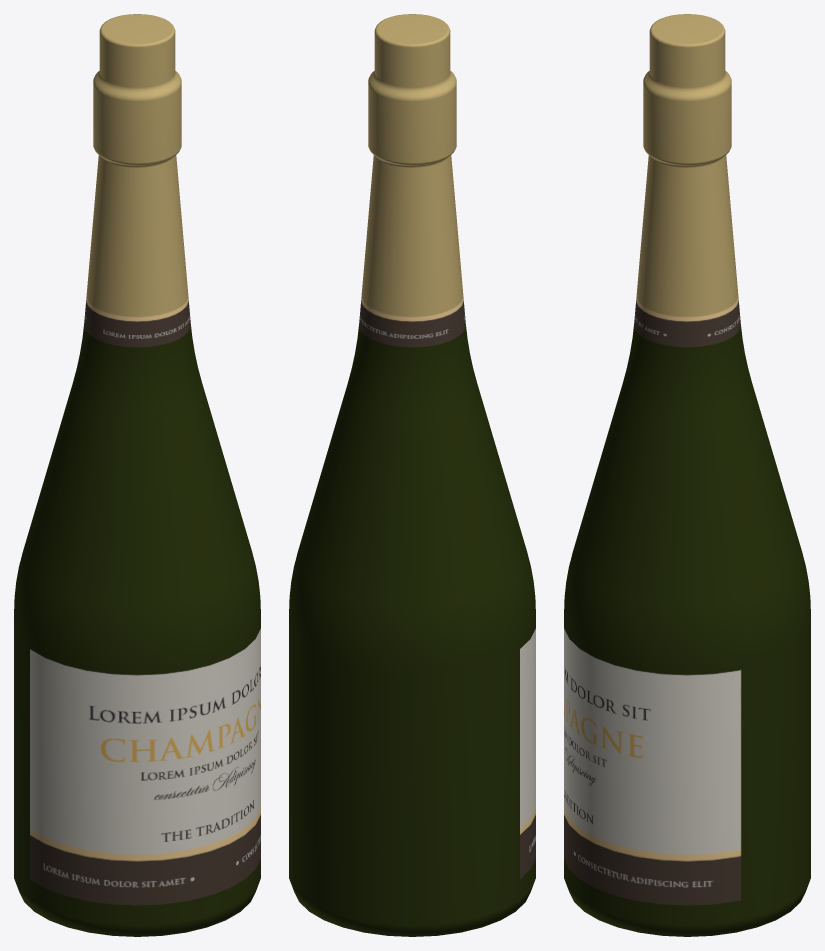
File: champagne_Lorem.glb
The picture shows the model from 3 angles, left to right: view 1: azimuth 30°, elevation 25°; view 2: azimuth 150°, elevation 25°; view 3: azimuth 270°, elevation 25°; orthographic projection.
Parts seen in each view (by area): view 1: FG Champagne.Shape; view 2: FG Champagne.Shape; view 3: FG Champagne.Shape.
Part boxes in pixels (left/top/right/bottom): FG Champagne.Shape: left=14, top=14, right=260, bottom=936; FG Champagne.Shape: left=289, top=14, right=535, bottom=936; FG Champagne.Shape: left=564, top=14, right=810, bottom=936.
Size of the model in its own units: 0.4331 by 1.66 by 0.4307.
1 material, 1 textured.
